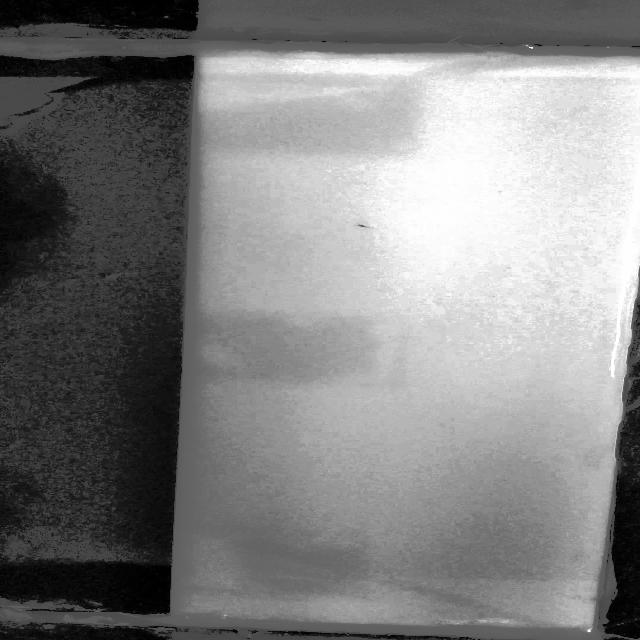shrimp: (350, 221, 377, 231)
